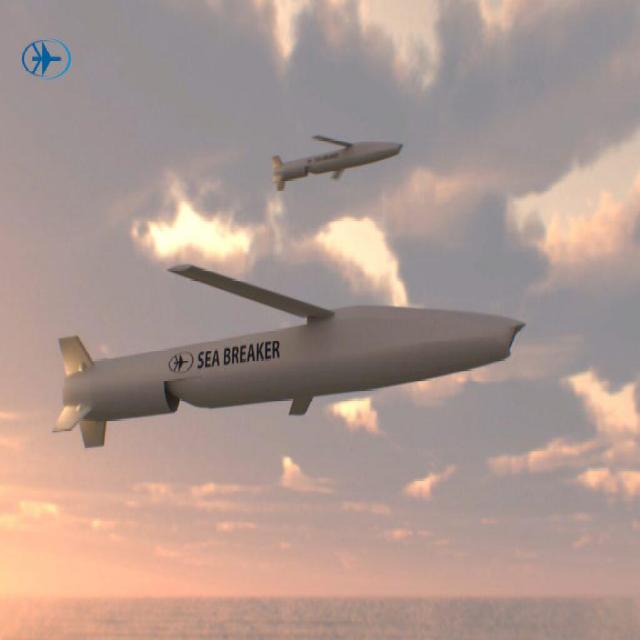rocket: (46, 263, 530, 437)
